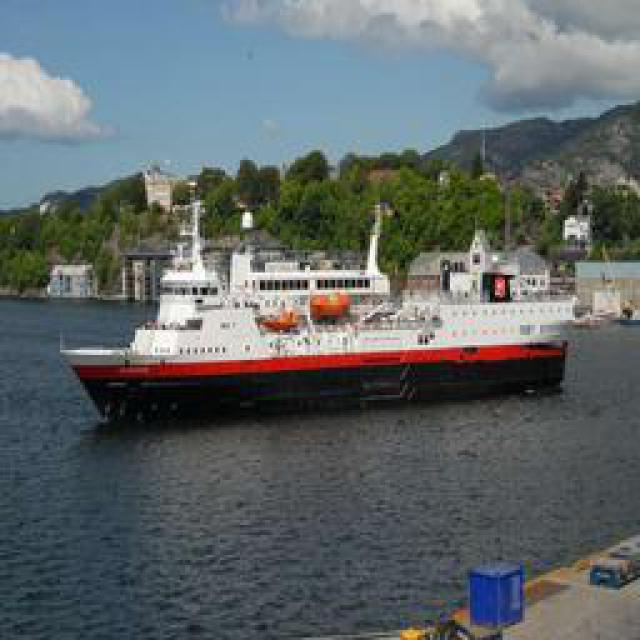Ship: (57, 208, 585, 426)
